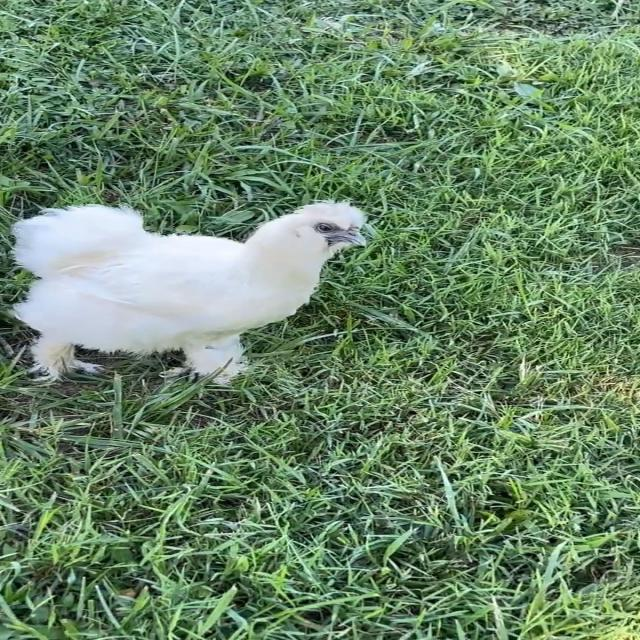menacing: (0, 162, 379, 392)
